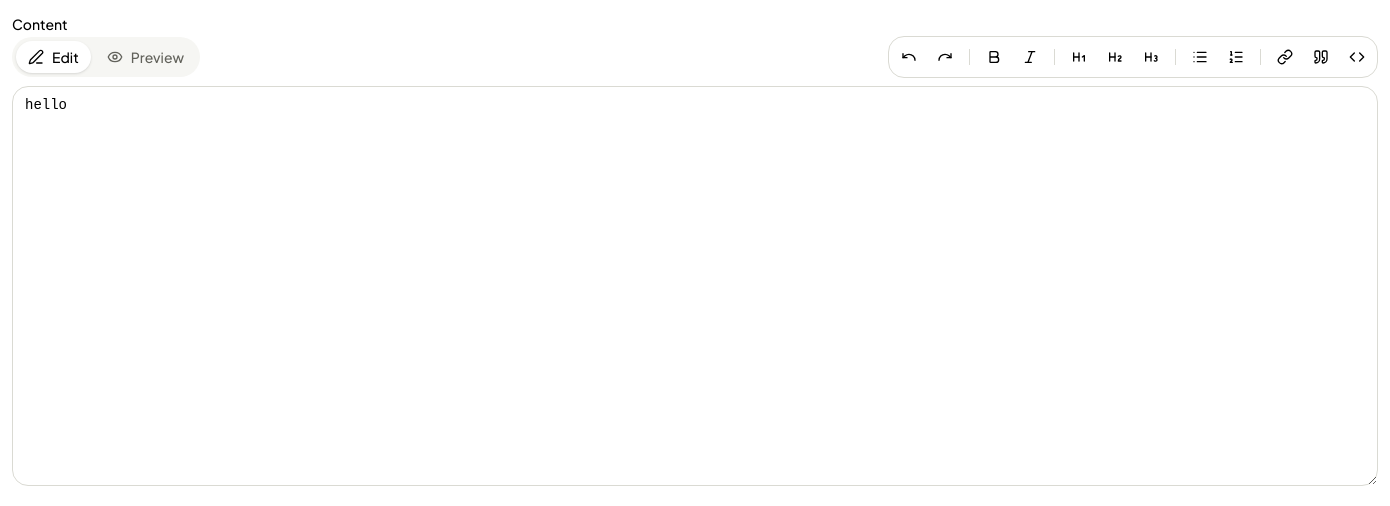
Test case: RichTextEditor › applies markdown from the toolbar without crashing
Click the button named "Bold". click: (994,57)
box: [978,41,1010,73]
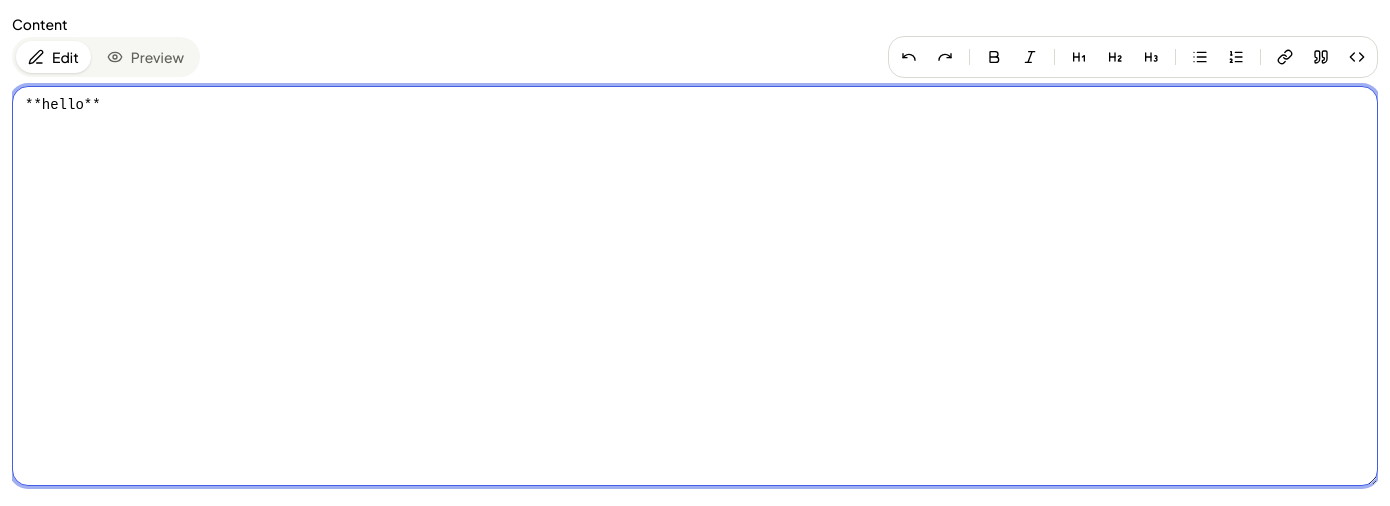
Check: the text box named "Content" holds "**hello**"
Click the button named "Heading 1". click: (1079,57)
box: [1063,41,1095,73]
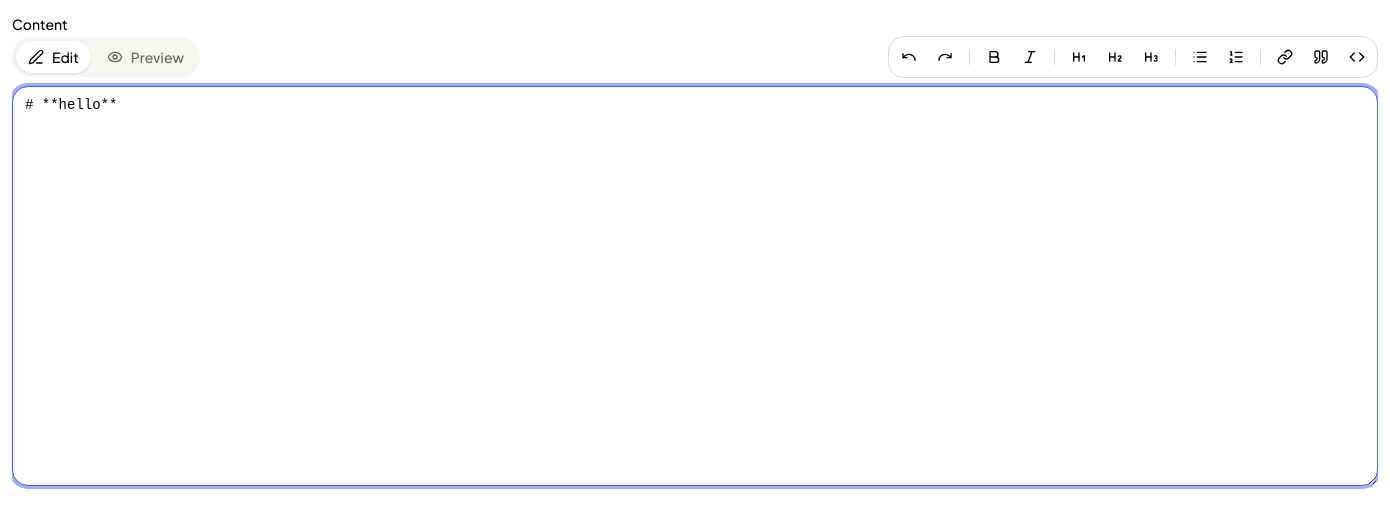
Check: the text box named "Content" holds "# **hello**"
